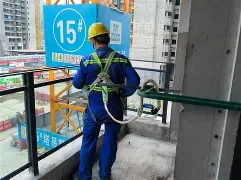safety belt: (87, 53, 137, 121)
